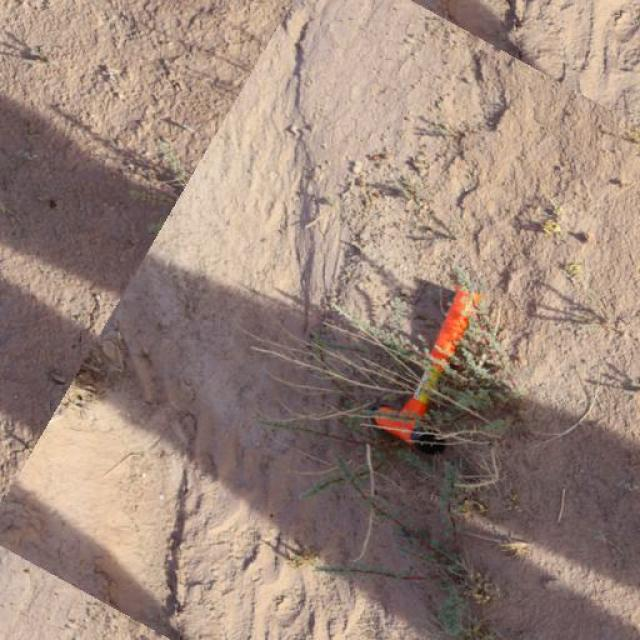mallet: (373, 278, 485, 452)
